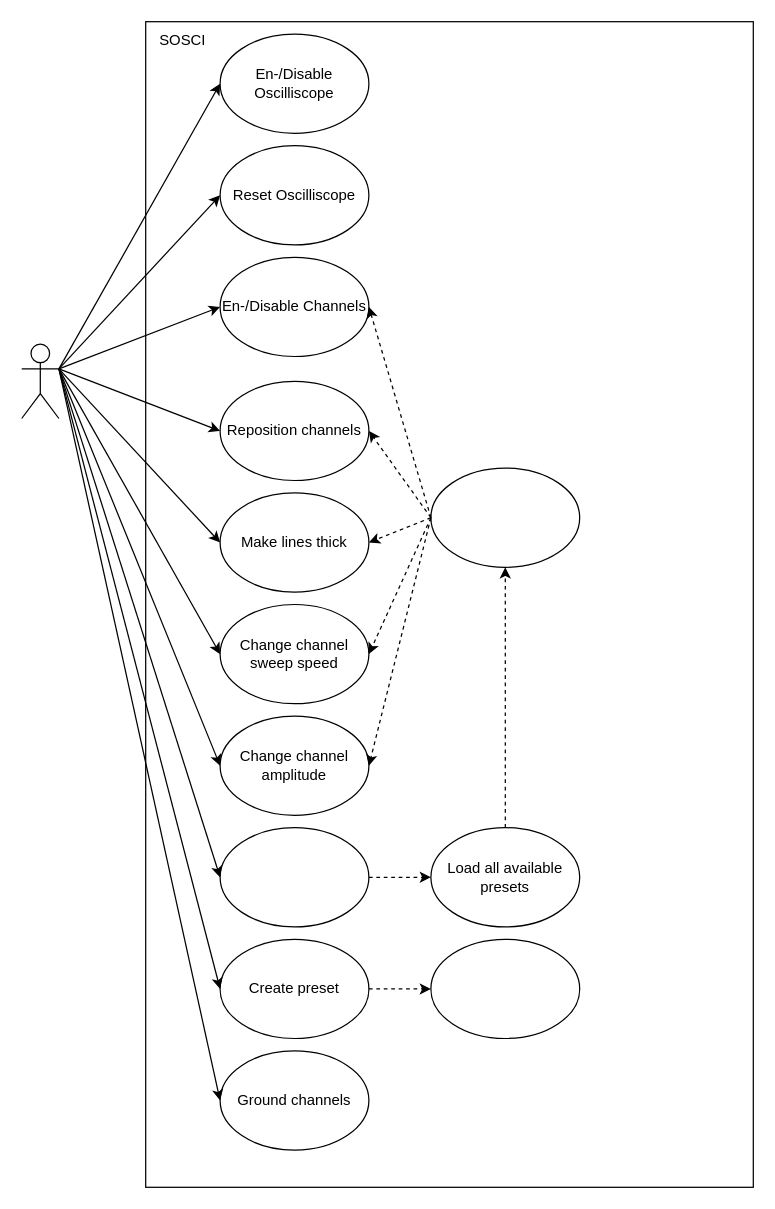
The diagram is 775 pixels wide and 1209 high, and some of its shapes have lost their labels. The box of each missing label's shape, as (x1, y1, x2, y2) in pixels:
Create preset file: (430, 938, 580, 1038)
Load preset: (219, 826, 369, 927)
Load selected preset: (430, 467, 580, 567)
User: (20, 343, 59, 418)
